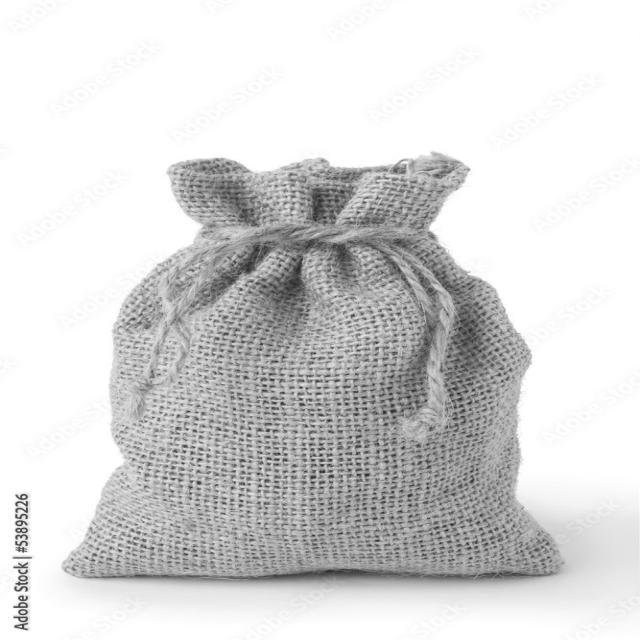sack: (59, 150, 562, 578)
